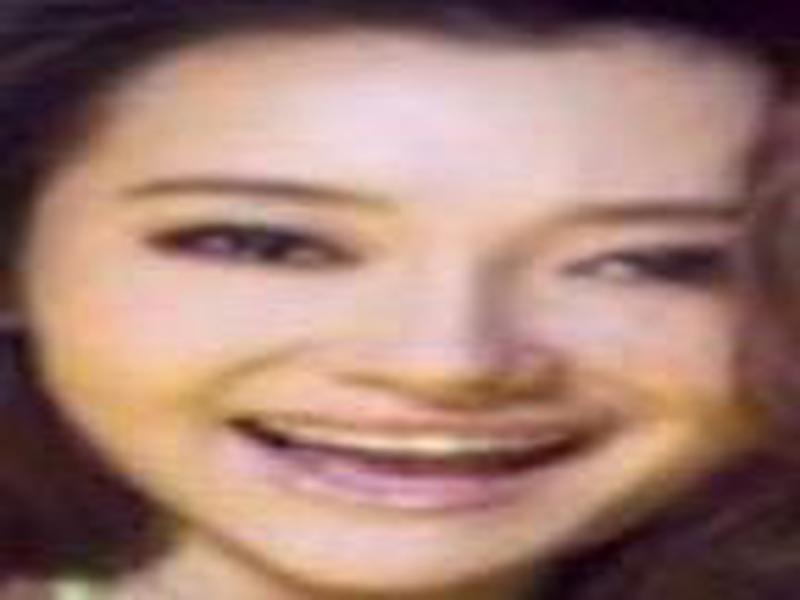without_mask: (32, 82, 762, 585)
